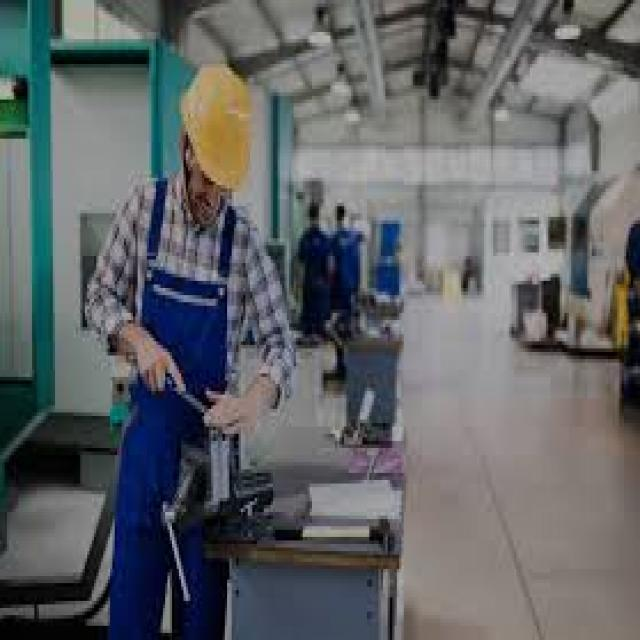Safety-Helmet: (165, 54, 271, 206)
